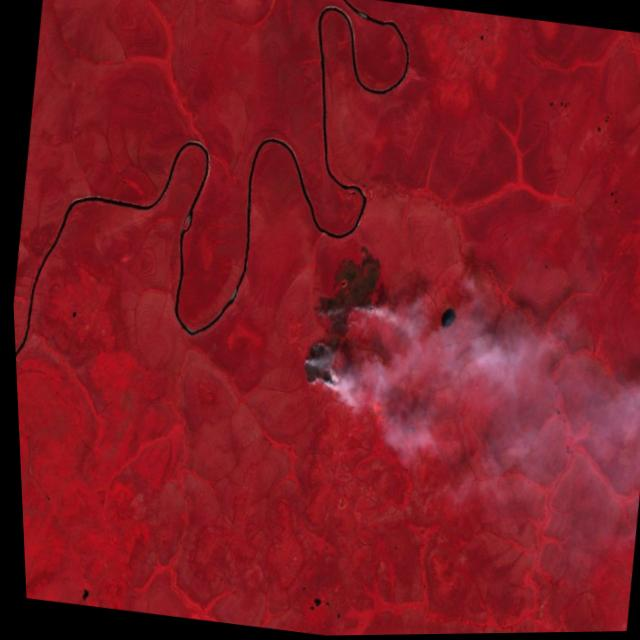fire: (274, 227, 414, 415)
